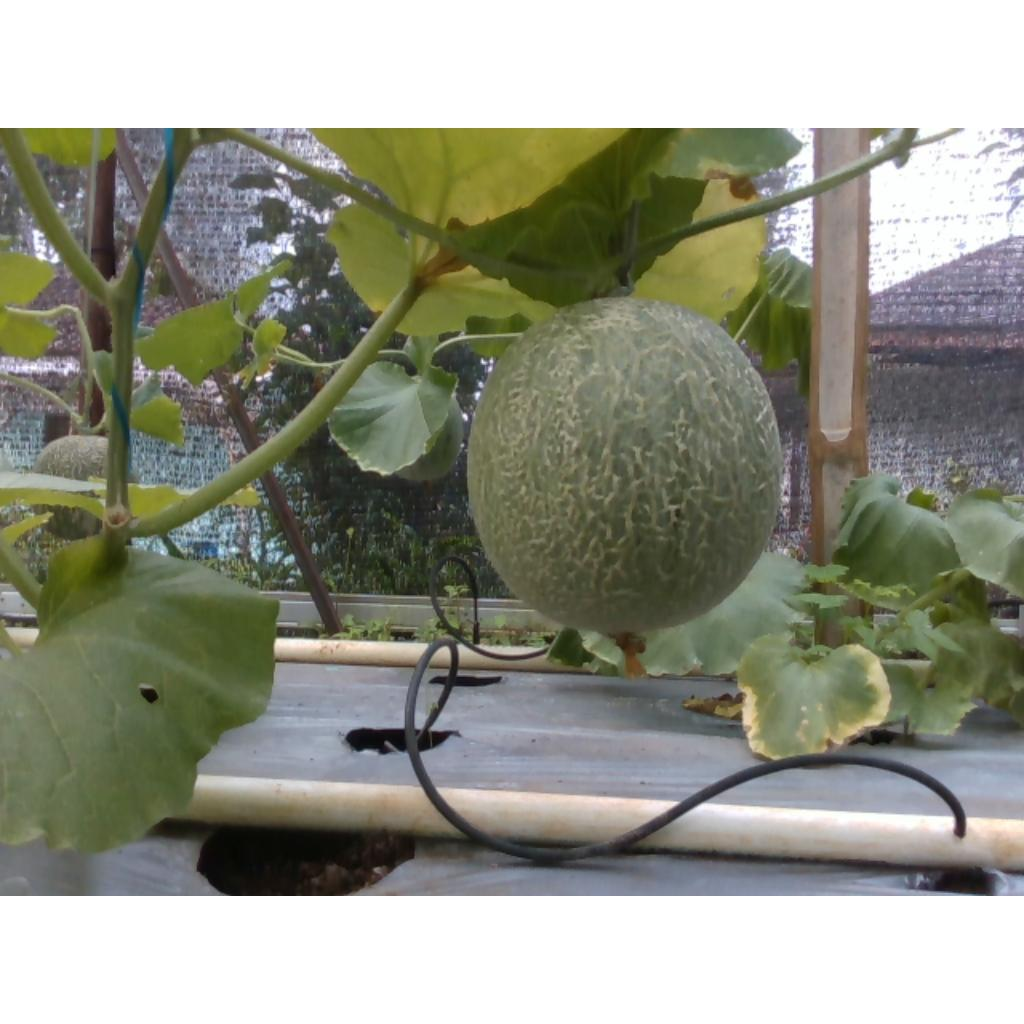melon: (469, 296, 782, 634)
